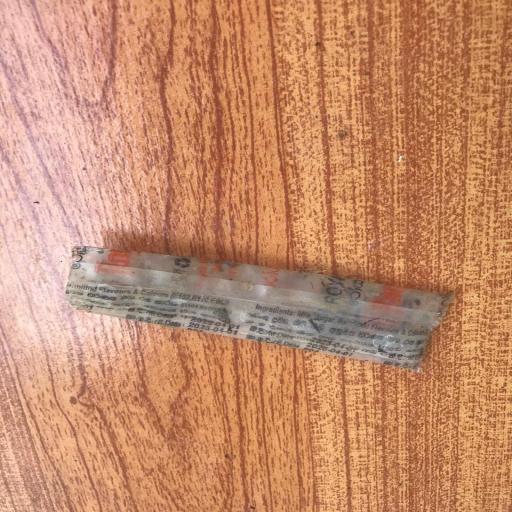waste: (55, 232, 476, 402)
